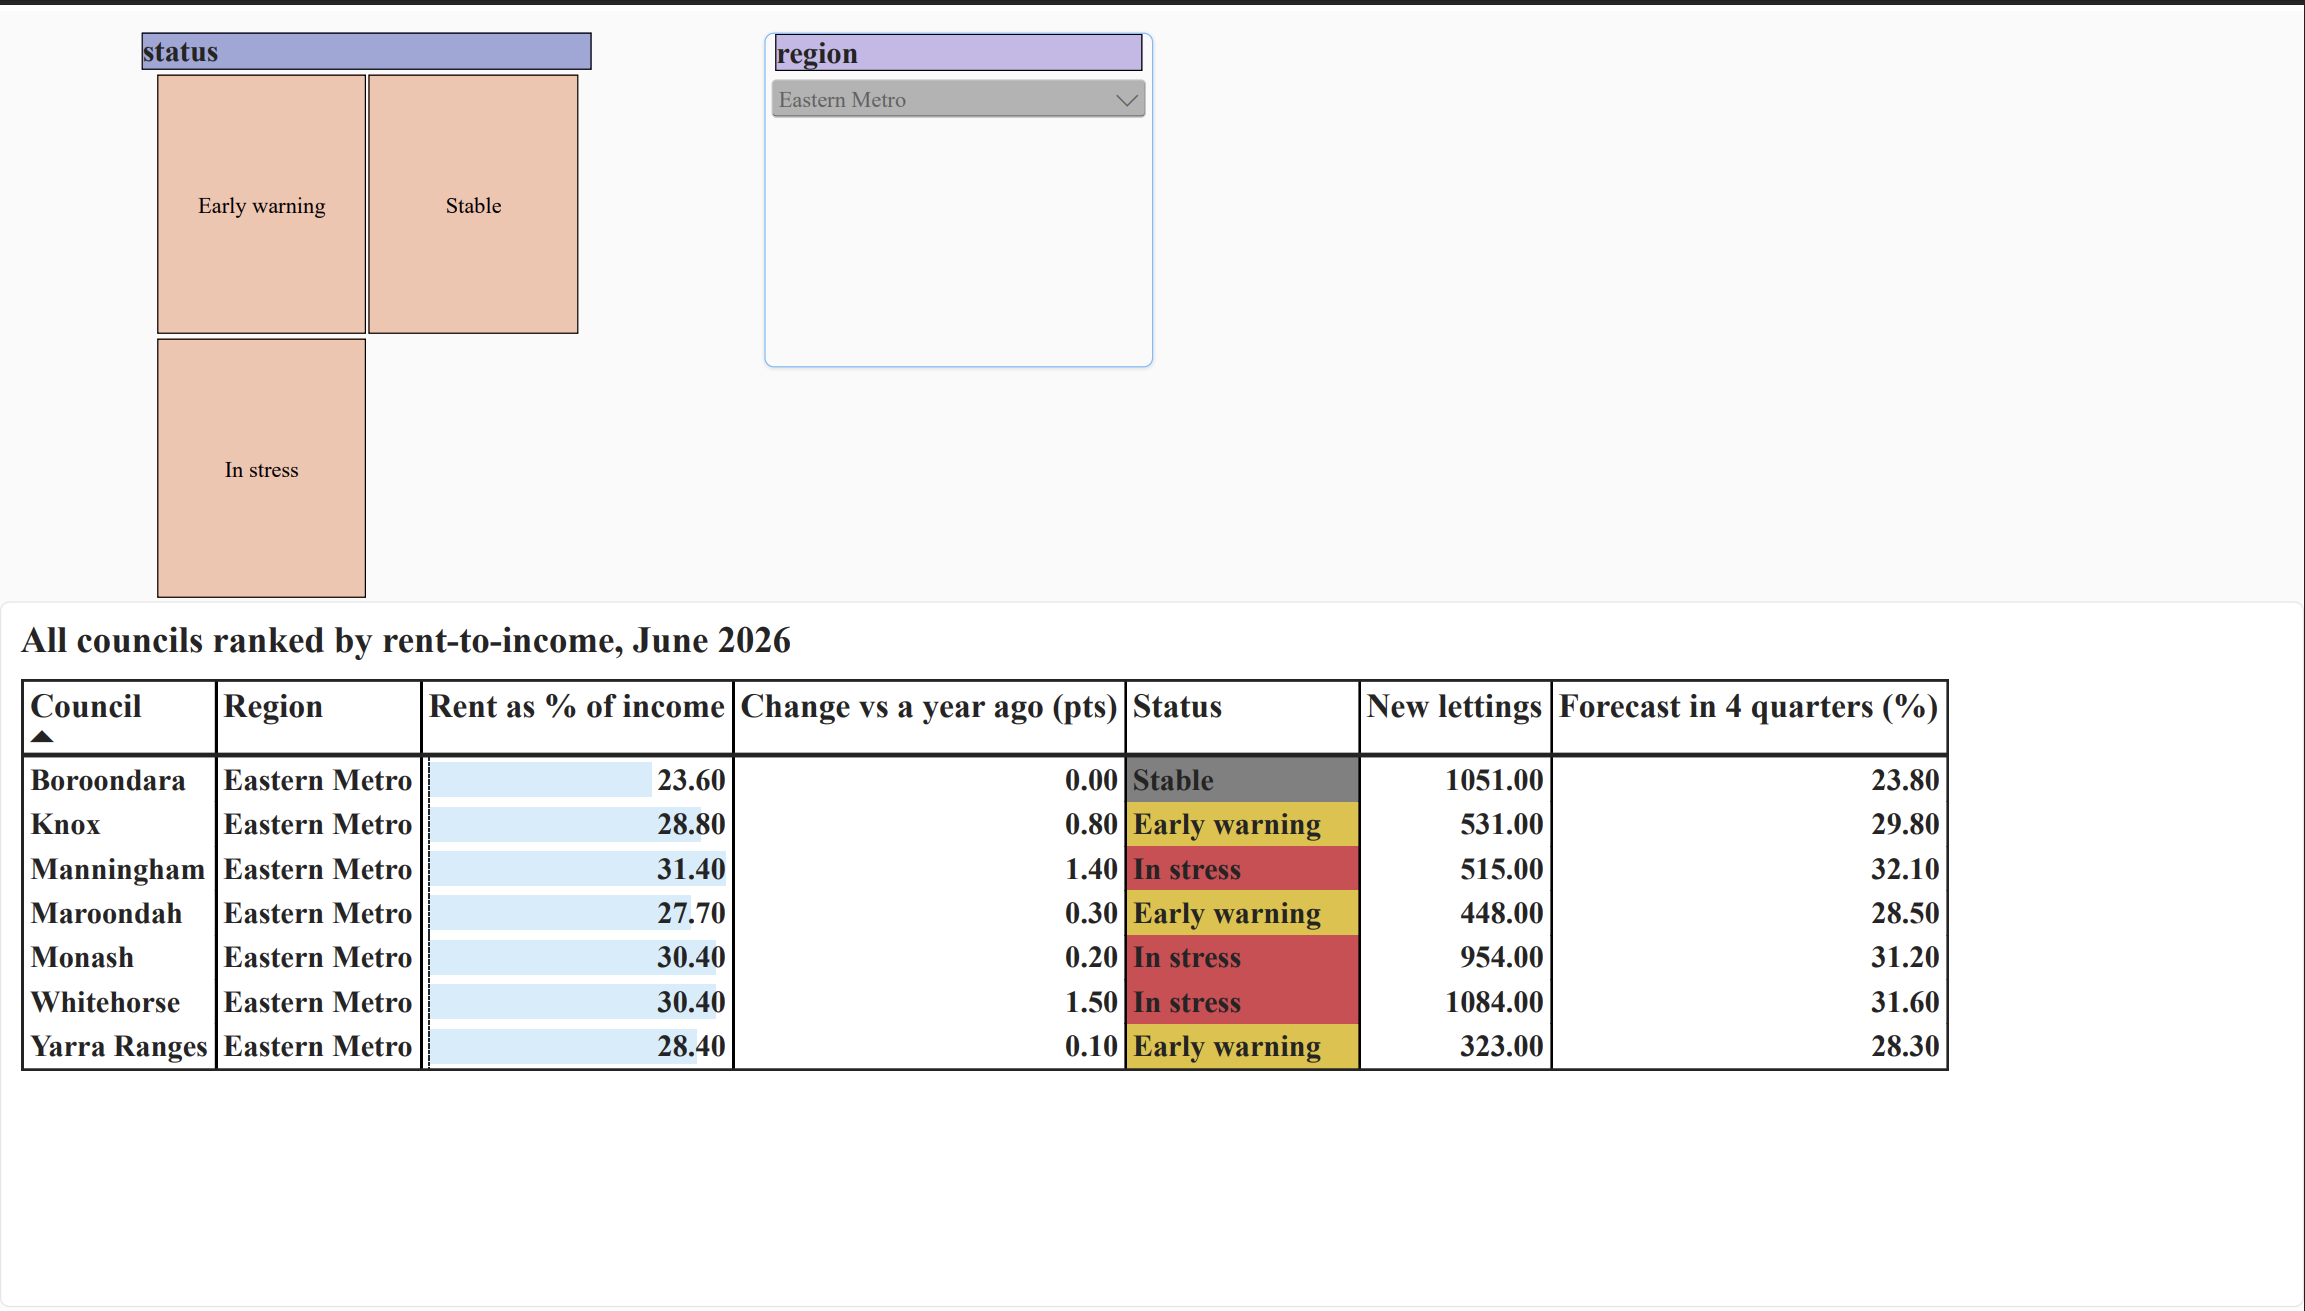

Layout of this report page (visuals, bound fields, positions):
{"tool":"powerbi","page":{"name":"Early-warning list","canvas":[1920,1080],"ordinal":2},"visuals":[{"type":"slicer","fields":{"Values":["dim_lga.region"]},"box":[637,17.9,323.7,278.9],"z":0},{"type":"slicer","fields":{"Values":["early_warning.status"]},"box":[109.5,17.9,391,473.2],"z":1000},{"type":"tableEx","title":"All councils ranked by rent-to-income, June 2026","fields":{"Values":["early_warning.lga_name","early_warning.region","Avg(early_warning.rent_to_income_pct)","Avg(early_warning.yoy_change_pts)","early_warning.status","Avg(early_warning.new_lettings)","Avg(forecast.forecast_4q_pct)"]},"box":[0,491.7,1920,587.8],"z":3000}]}

Visuals, with their boxes in screenshot pixels (x1, y1, x2, y2), scaled from the page's 1920x1080 canvas onto the 2305x1311 screenshot:
slicer - dim_lga.region: <region>765, 22, 1153, 360</region>
slicer - early_warning.status: <region>131, 22, 601, 596</region>
"All councils ranked by rent-to-income, June 2026" tableEx: <region>0, 597, 2304, 1310</region>
